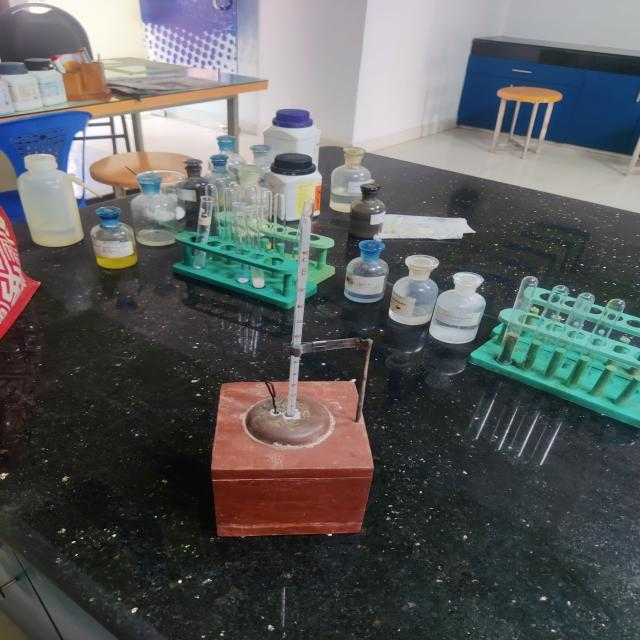Calorimeter: (184, 192, 420, 582)
